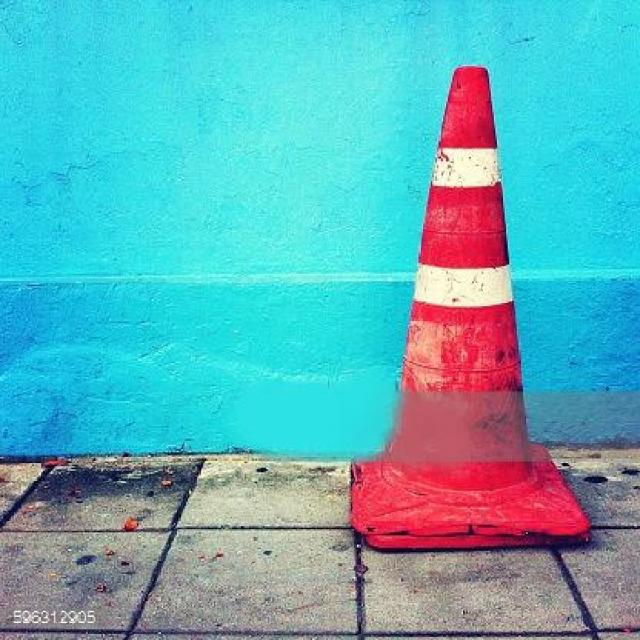Cone: (351, 65, 591, 546)
